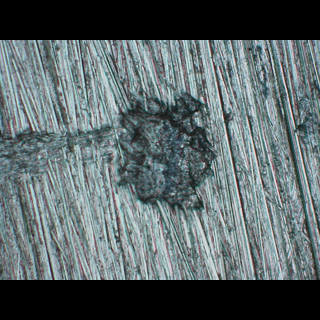d: (118, 85, 215, 214)
